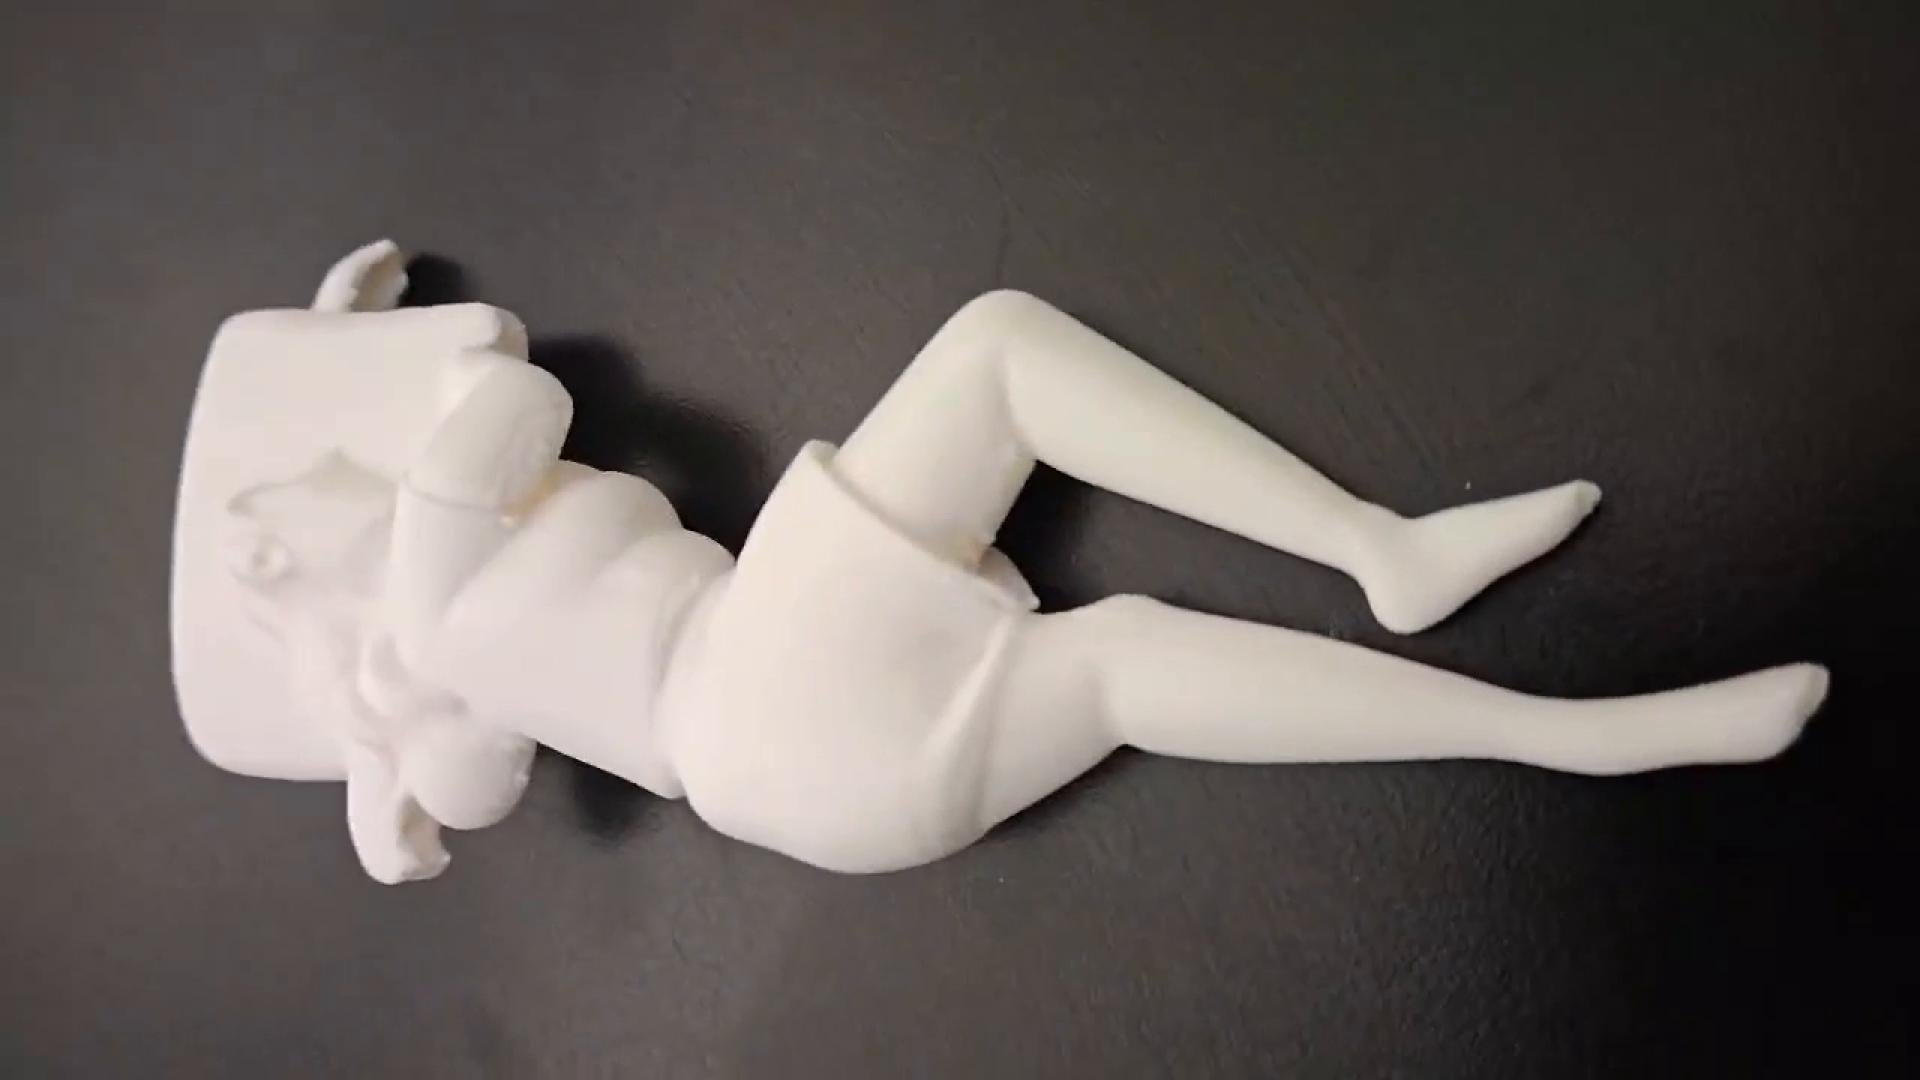Good-style: (160, 232, 1818, 901)
